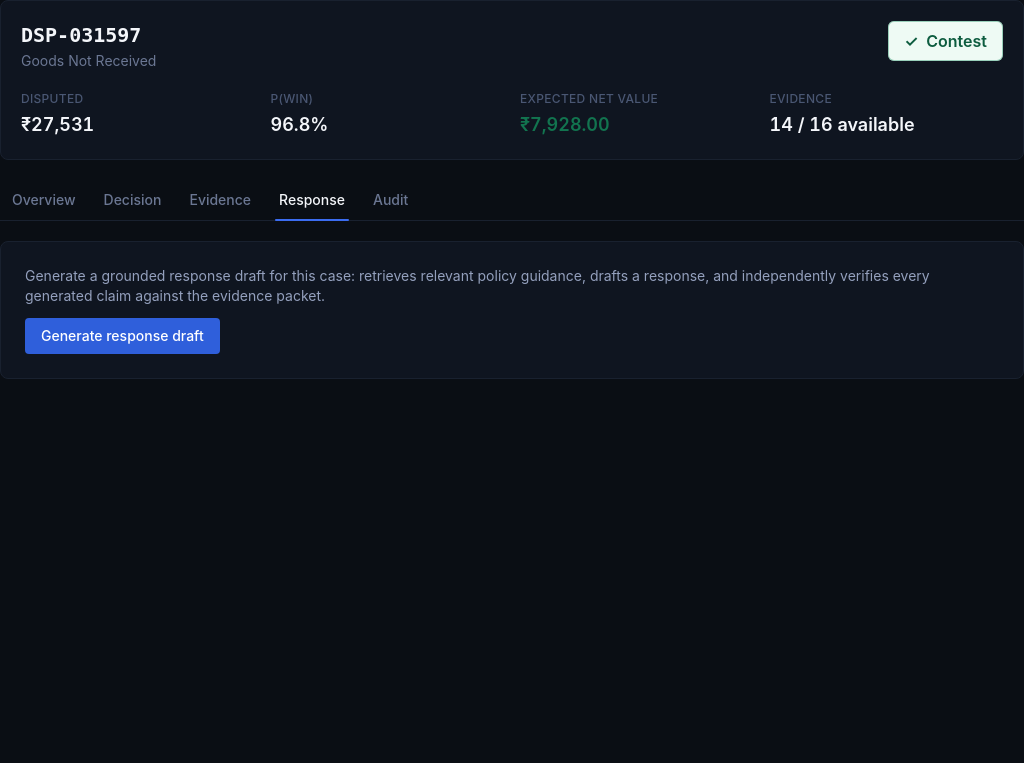
CaseResponsePage › requires an explicit action before generating a draft, then renders claim verification
Check: the text "Draft ready" is not shown
Click the button "Generate response draft" at (122, 336), box [25,318,220,354]
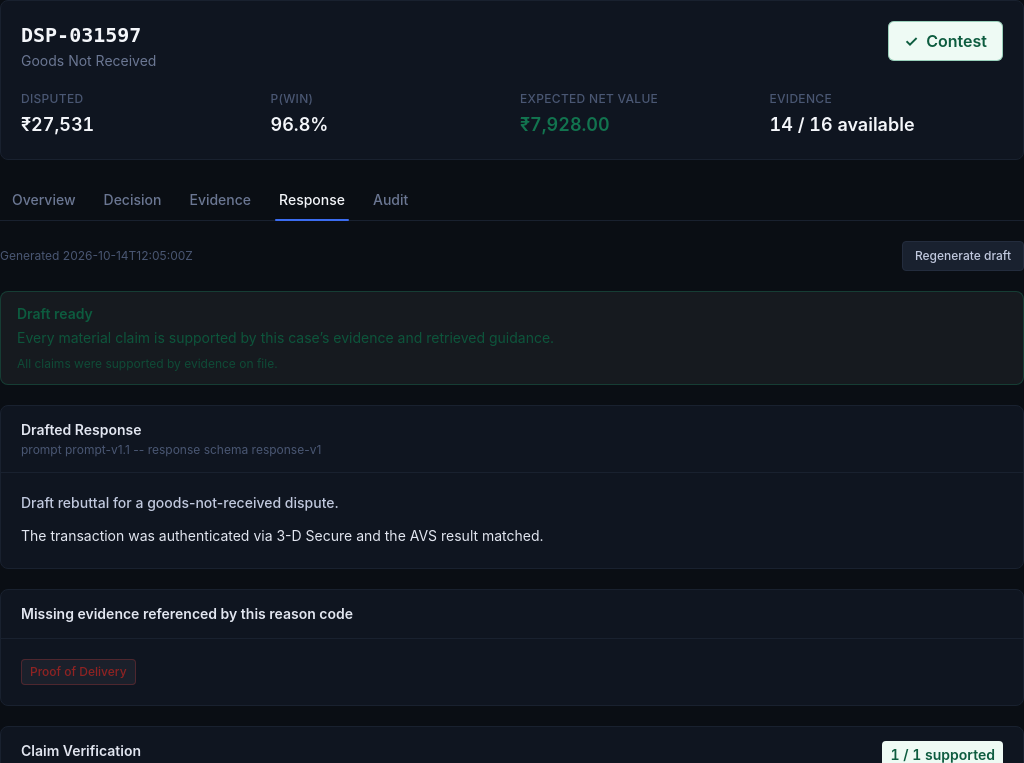
Check: the text "Draft ready" is shown, box [17,305,93,322]
Check: the text "authenticated via 3-D Secure" is shown, box [21,527,544,544]
